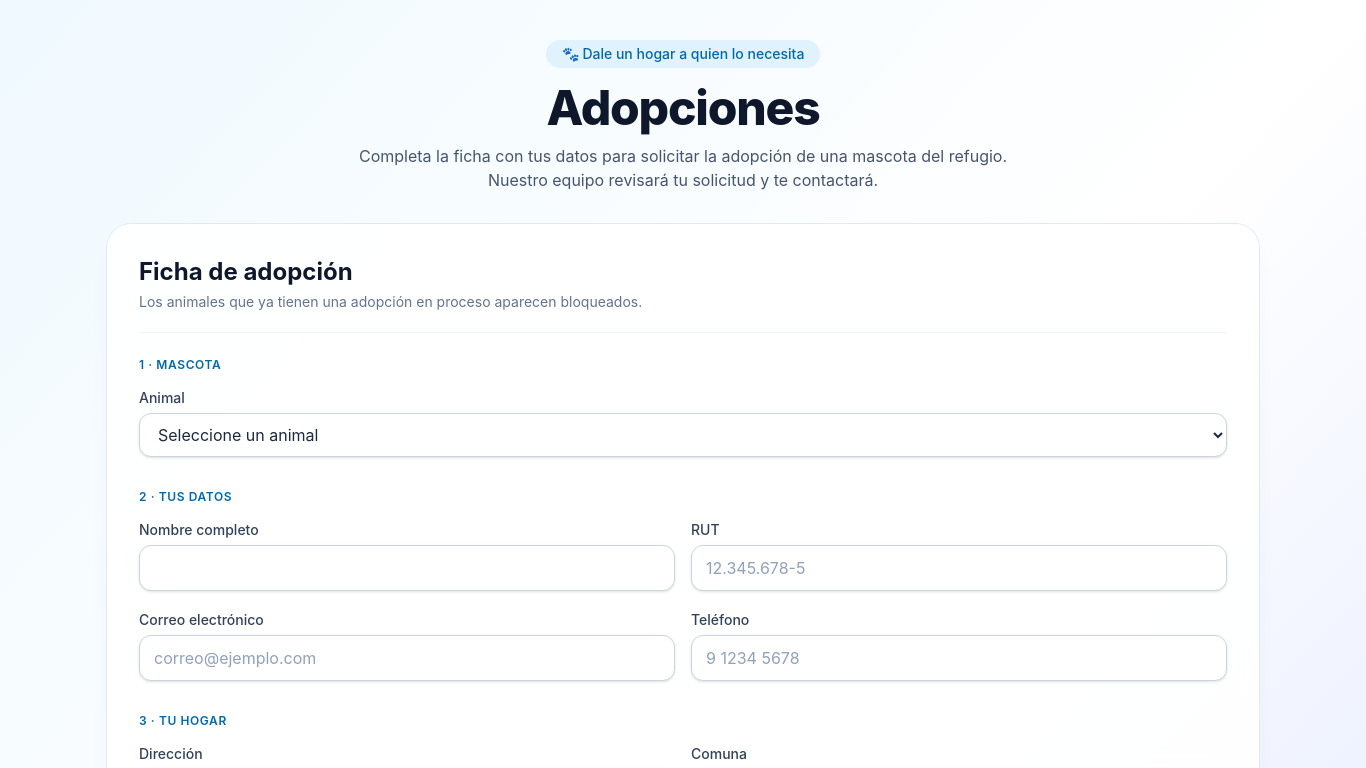
Formulario de adopción (vista del usuario) › el teléfono siempre empieza con 9 y se agrupa como 9 1234 5678
In the field labelled "Teléfono": (959, 658) [691, 635, 1227, 681], type "+56912345678"
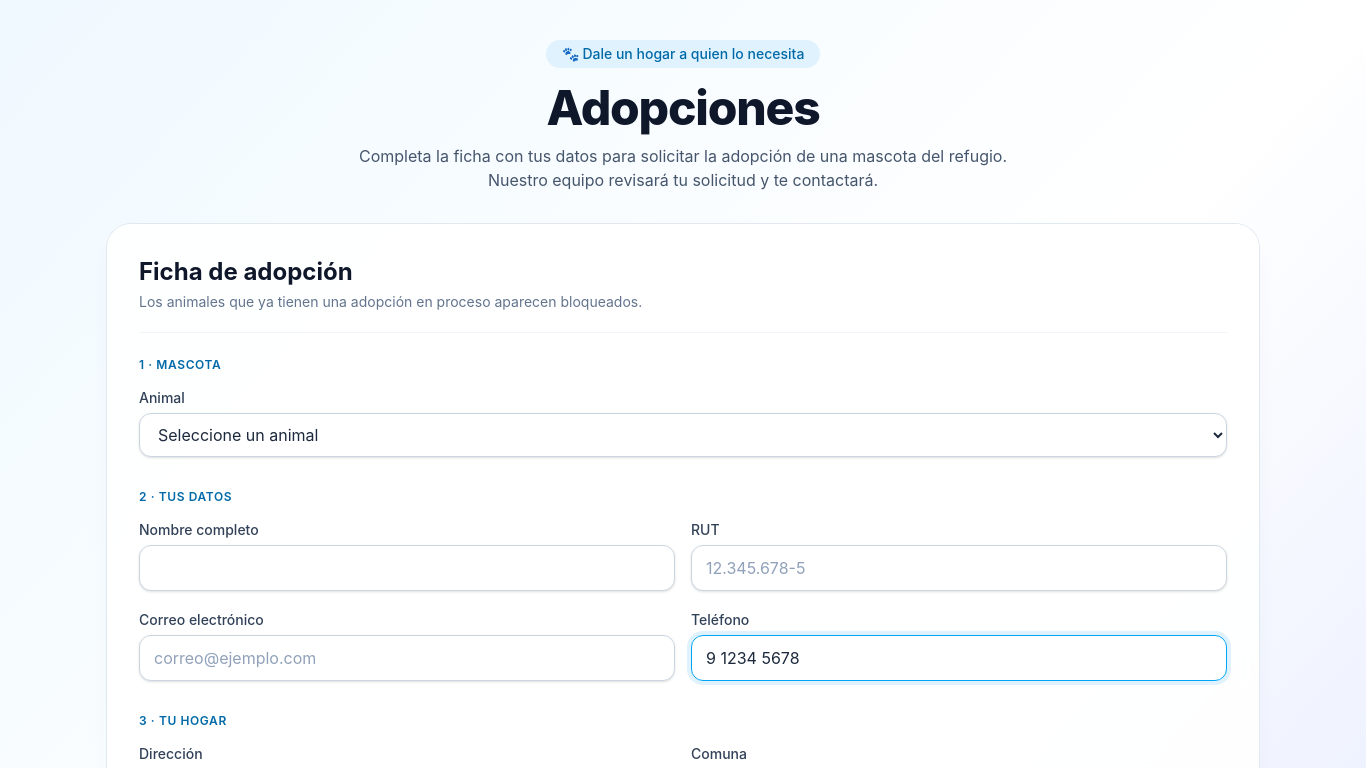
Expected: the field labelled "Teléfono" holds "9 1234 5678", [691, 635, 1227, 681]
